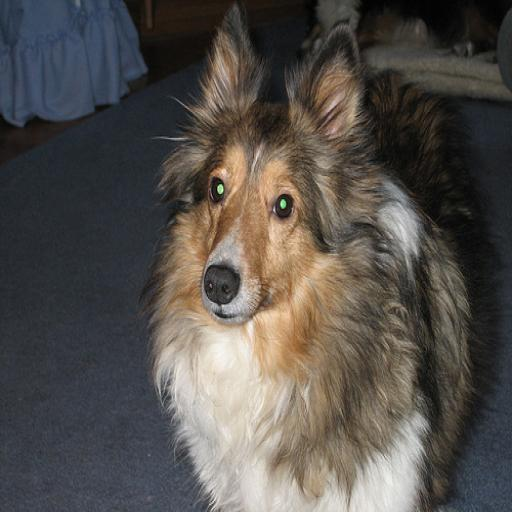dog_face: (174, 12, 364, 331)
